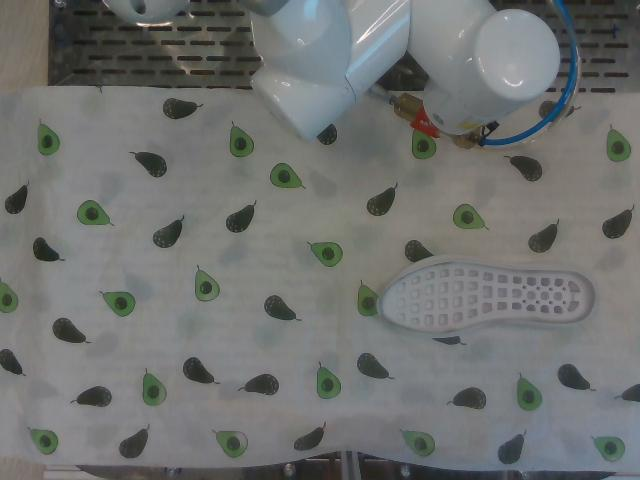shoes: (379, 262, 595, 333)
